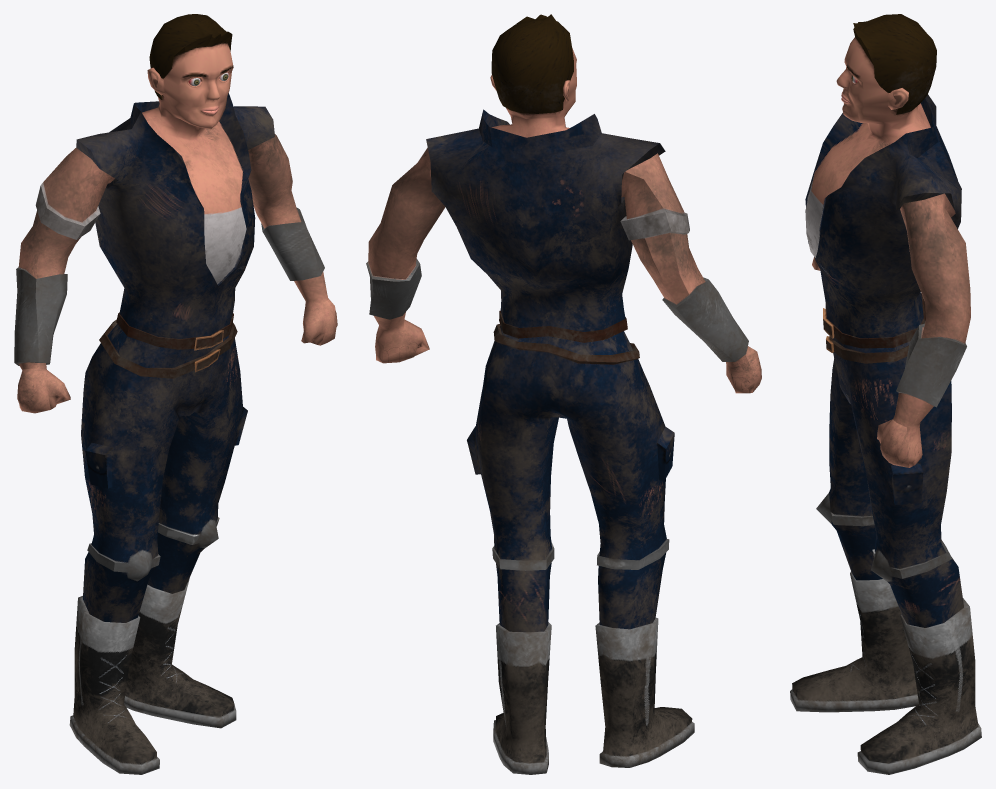
File: Anim_abrir_puerta_ok_jugador.0034.obj
The picture shows the model from 3 angles, left to right: view 1: azimuth 30°, elevation 25°; view 2: azimuth 150°, elevation 25°; view 3: azimuth 270°, elevation 25°; orthographic projection. The views are drawn at different scales.
Parts seen in each view (by area): view 1: polySurface1; view 2: polySurface1; view 3: polySurface1.
Part boxes in pixels (x1,y1,x2,y2): polySurface1: (14, 14, 337, 774); polySurface1: (366, 14, 761, 774); polySurface1: (790, 14, 981, 774).
Size of the model in its own units: 4.98 by 9.61 by 2.27.
